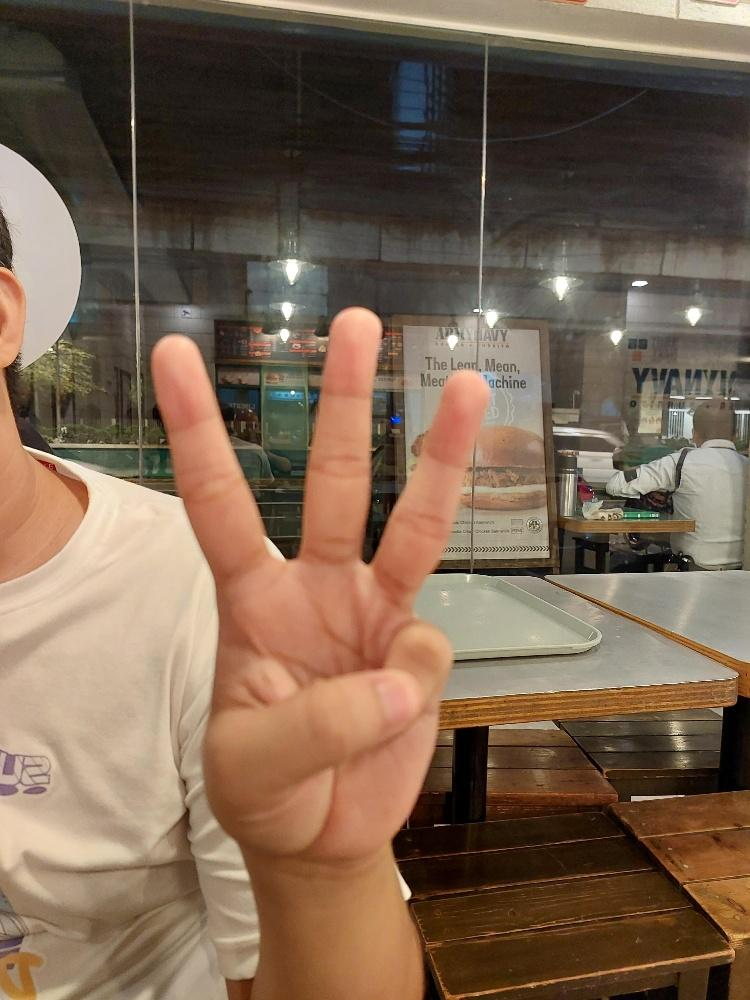w: (148, 303, 491, 861)
